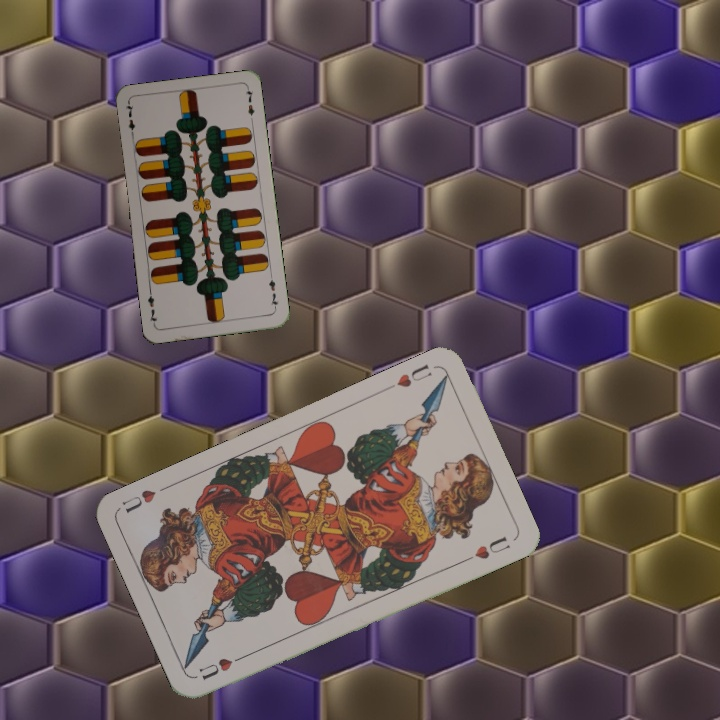E7: (265, 272, 281, 312), (122, 100, 137, 140)
HU: (195, 650, 249, 682), (393, 360, 435, 390)
